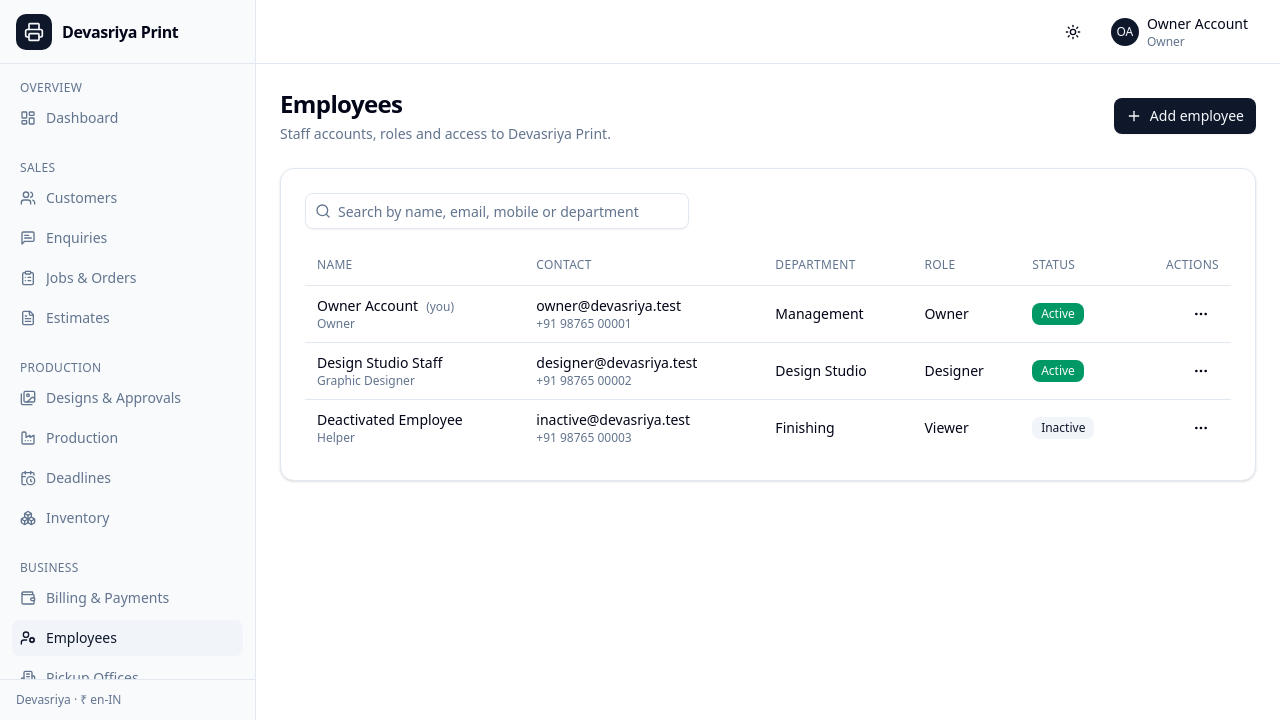
Test: audit history › shows the recorded changes for an employee
Click the button named "Actions for Design Studio Staff" at (1201, 370), box [1183,352,1219,388]
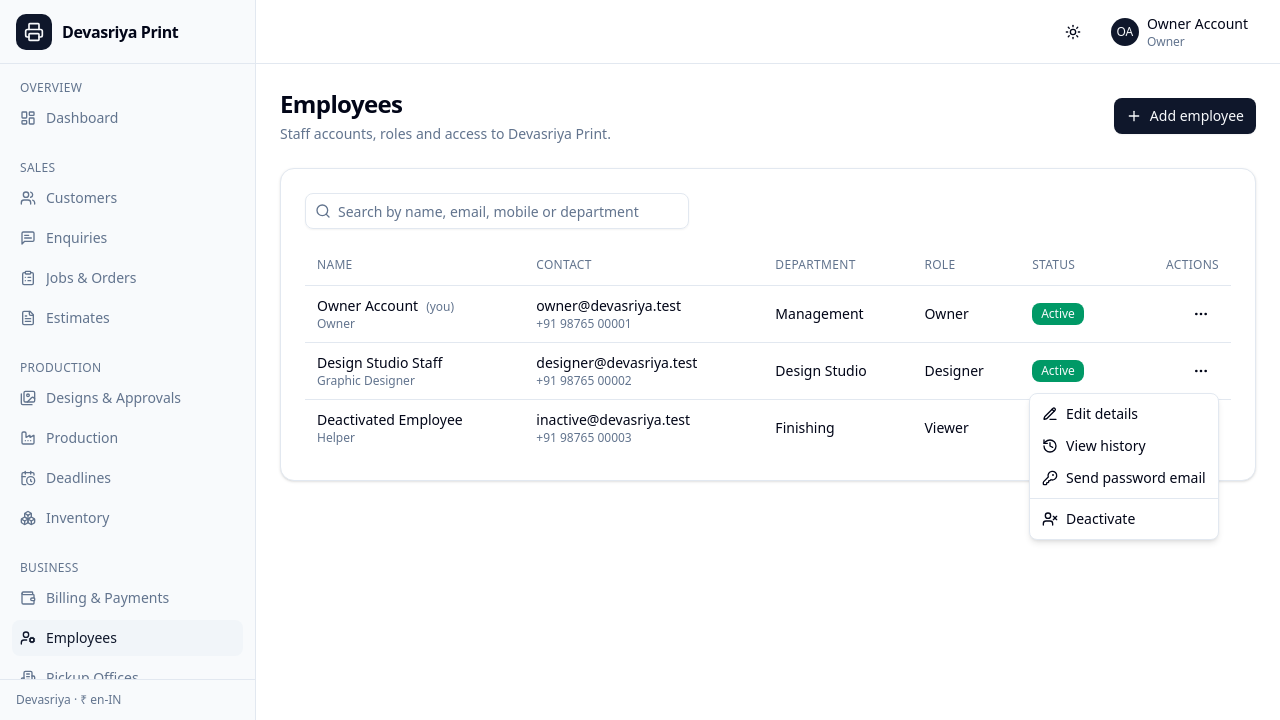
Click the menu item "View history" at (1094, 446), box [1042,436,1146,455]
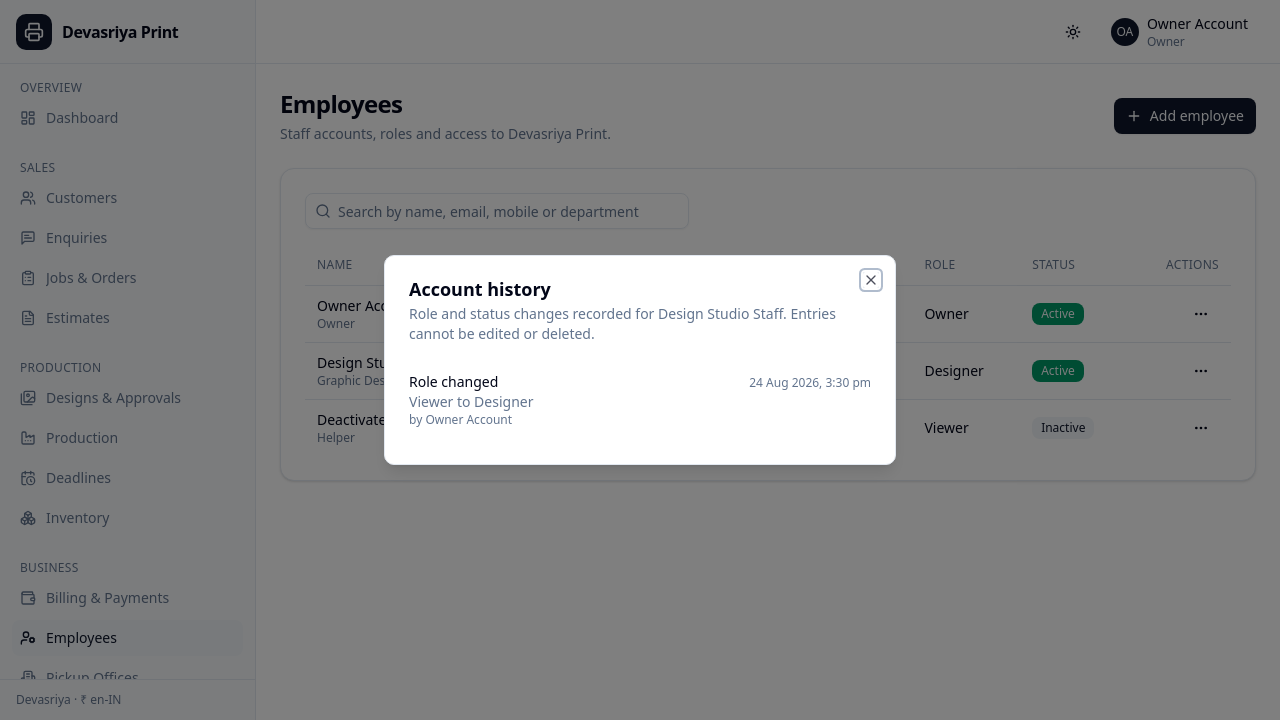
Expected: the text "Role changed" is shown, [409,372,498,392]
Expected: the text "Viewer to Designer" is shown, [409,392,534,411]
Expected: the text "by Owner Account" is shown, [409,411,512,428]
